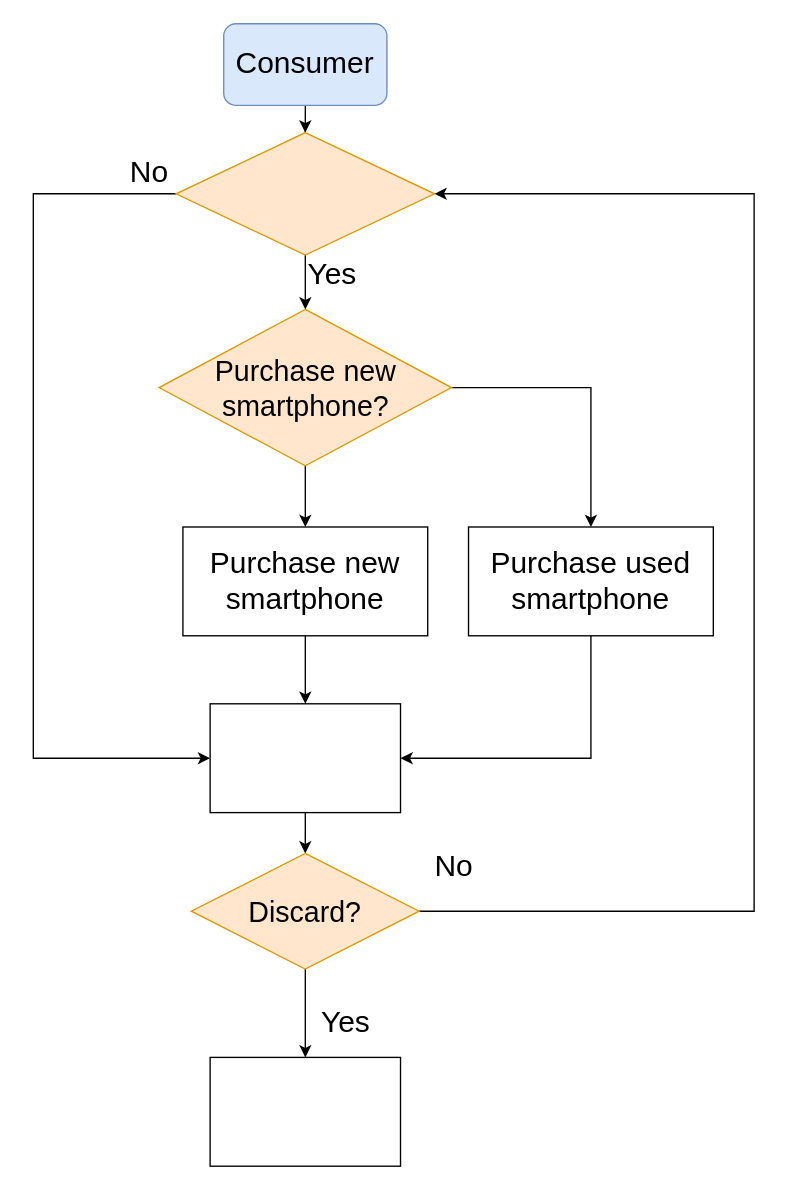
This 789x1190 diagram has some shape labels left out. The shapes that lost their labels are listed below. From the top down, each one's centre as x and y in pixels, then its label:
point (305, 193): Purchase?
point (305, 757): Keep and discard
point (305, 1111): EoL Pathways
